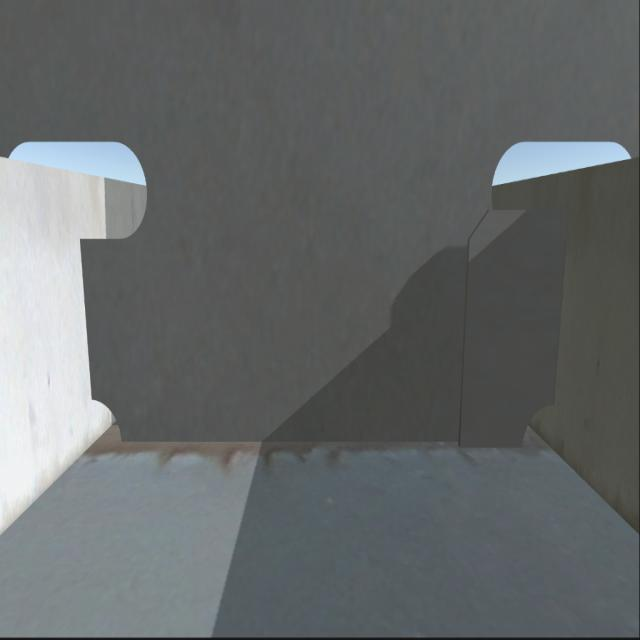fillet_hole: (90, 397, 126, 448), (522, 403, 556, 452)
fillet_yong_jeop_jang: (122, 444, 519, 446)
longi_yong_jeop_jang: (551, 222, 568, 403), (80, 242, 91, 399)
plate_CP03: (468, 213, 564, 447)
